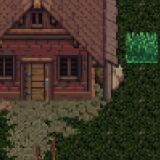Obstacle: (0, 0, 125, 154)
Slow: (126, 32, 158, 62), (24, 145, 62, 160)
